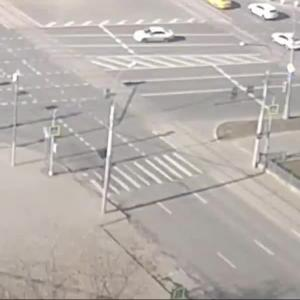car: (135, 26, 177, 46), (271, 32, 300, 58), (247, 5, 281, 23), (206, 1, 235, 14)
